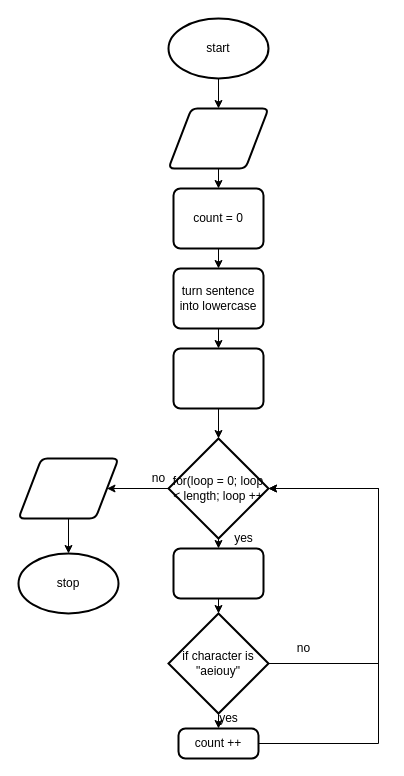
Image size: 404x776. Some labels were removed from this diagram. The centre of each missing label's shape, as x and y in pixels:
"get length of sentence" goes at (x=218, y=378).
"get sentence" goes at (x=218, y=138).
"read character at (loop)" goes at (x=218, y=573).
"return count" goes at (x=68, y=488).
